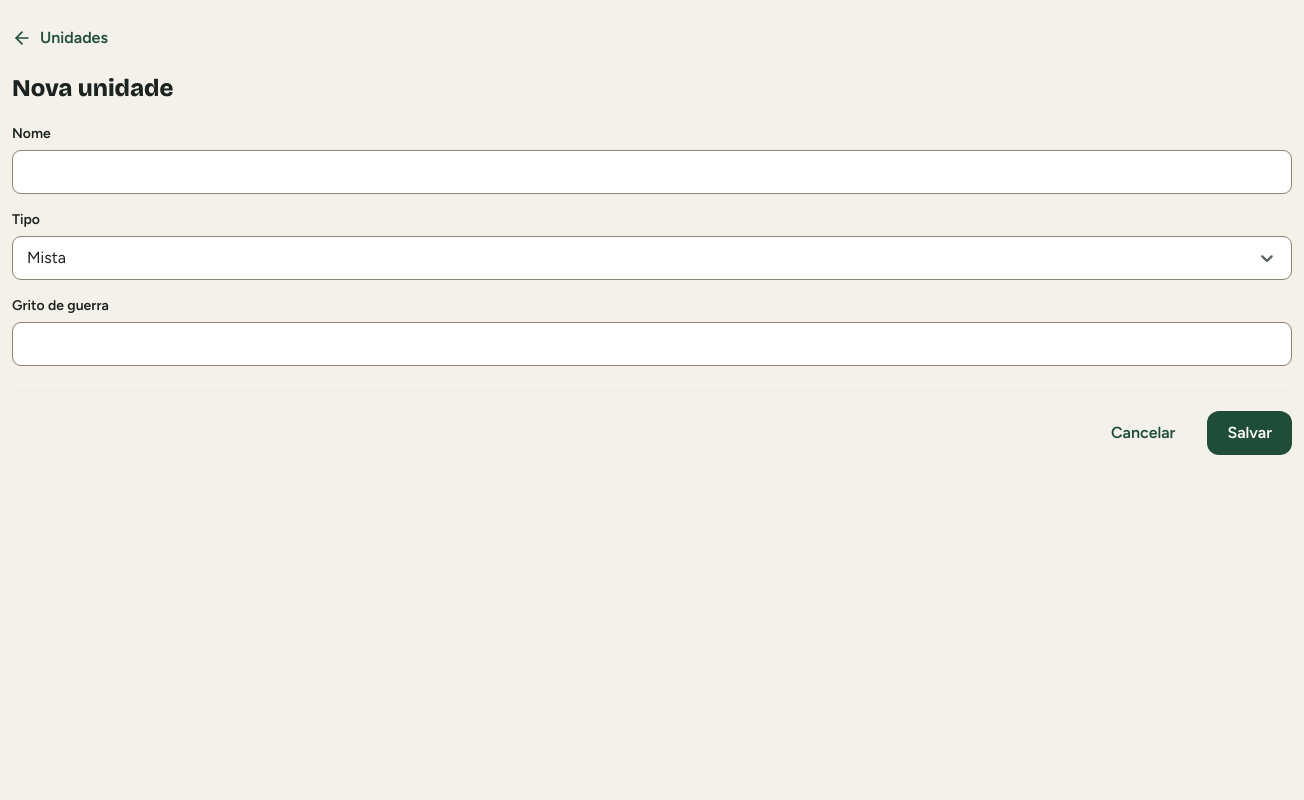
Test: A3 · nova e editar (telas dedicadas) › exige o nome
Click the button "Salvar".
click(1250, 433)  # box [1207,411,1292,455]
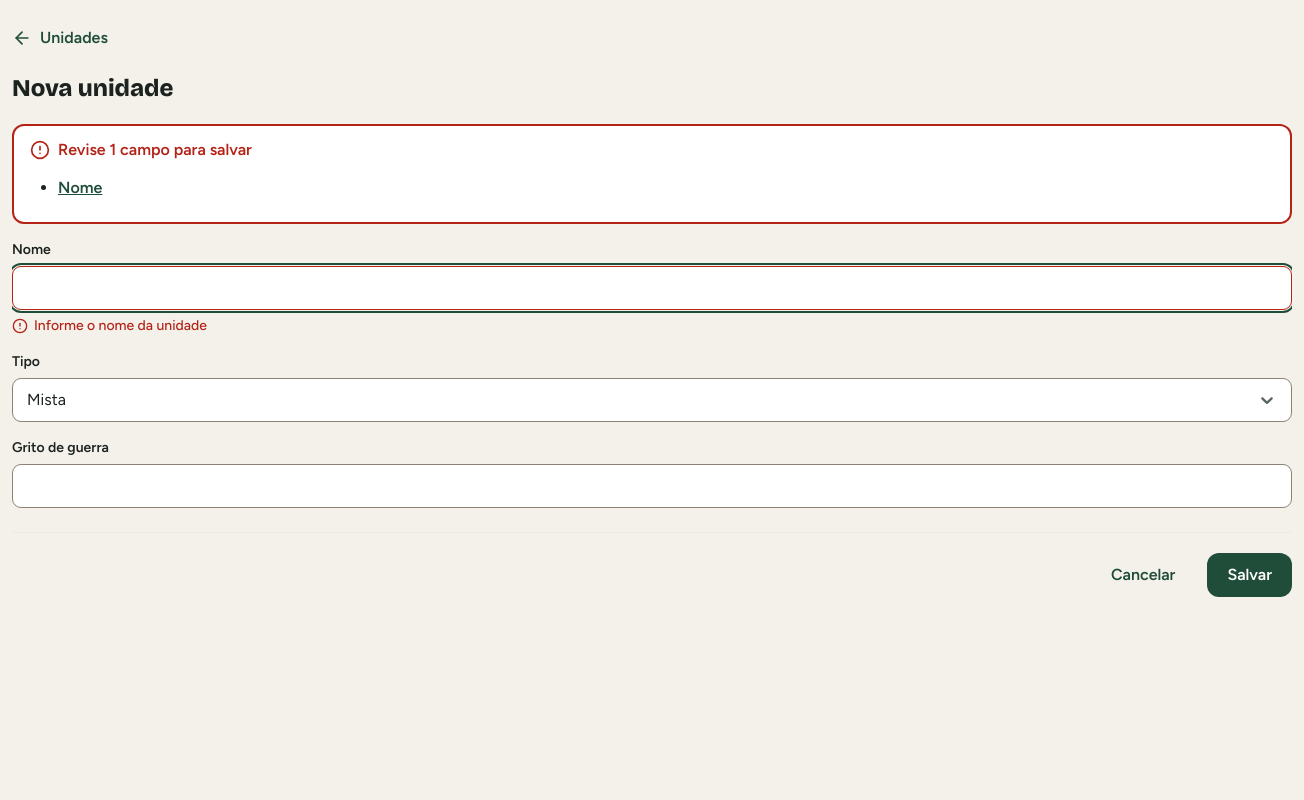
Expected: the text "Informe o nome da unidade" is shown, [12,317,207,334]
